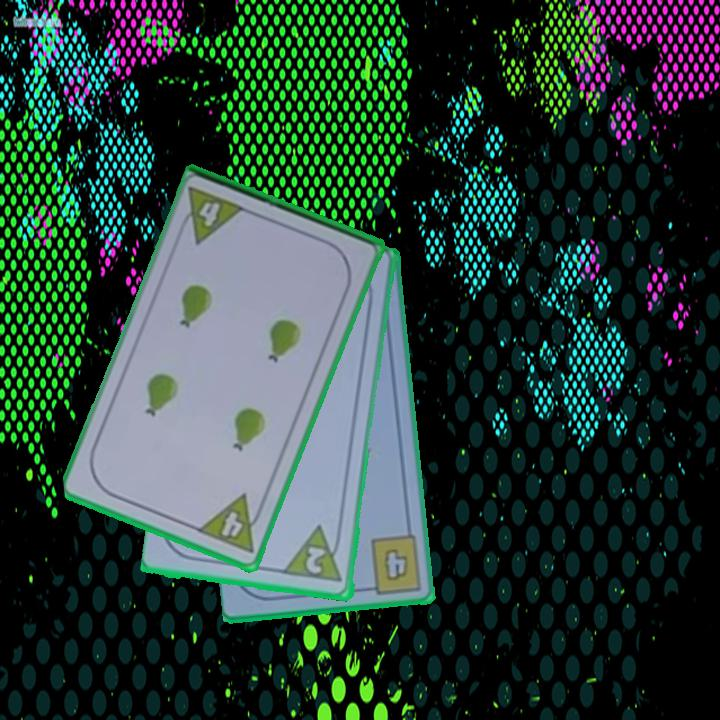2p: (302, 543, 328, 577)
4b: (361, 531, 426, 597)
4p: (194, 490, 269, 556), (174, 184, 249, 247)
